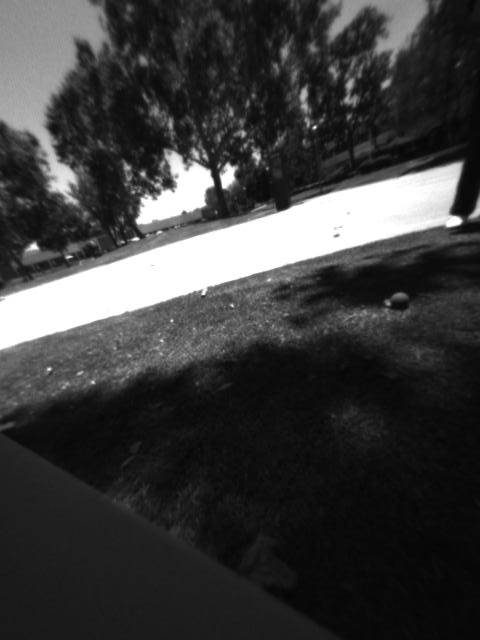dogtoy: (377, 282, 414, 321)
